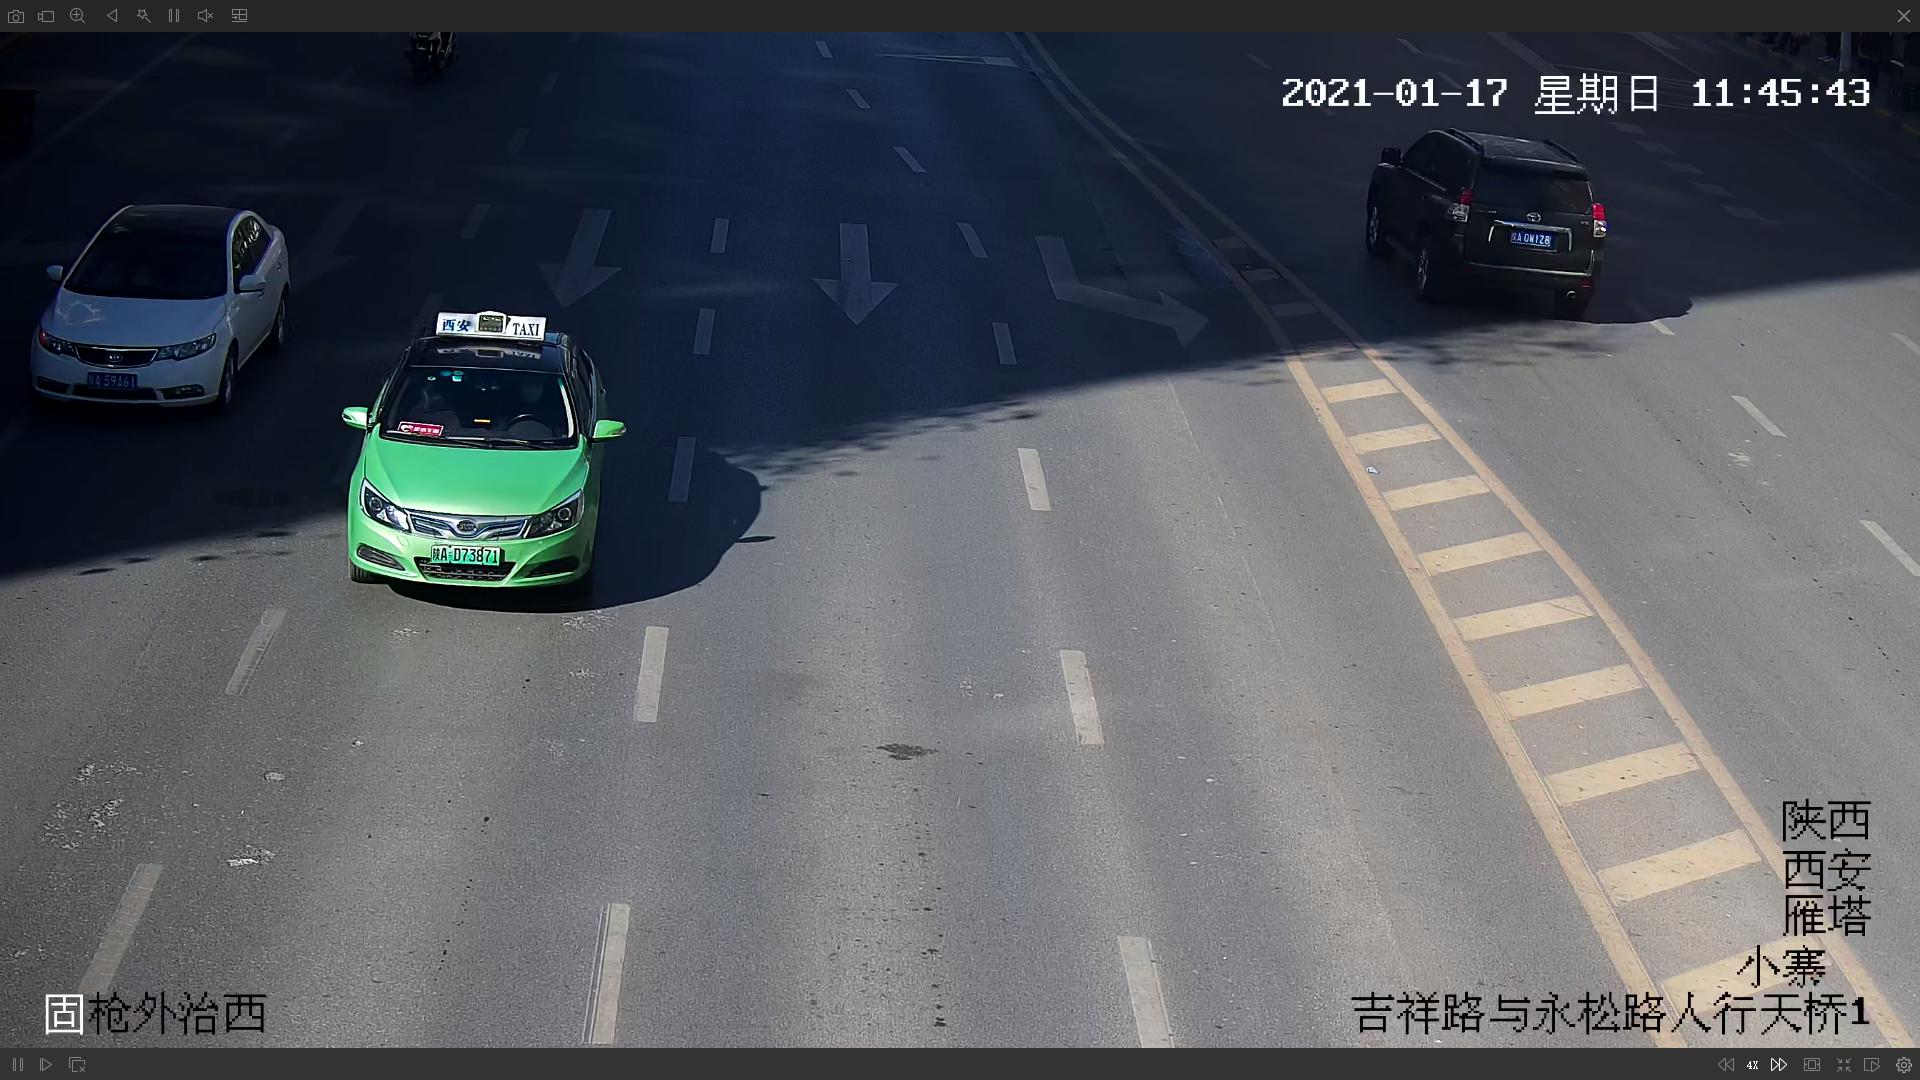grass-green: (342, 313, 629, 595)
white: (20, 198, 295, 423)
